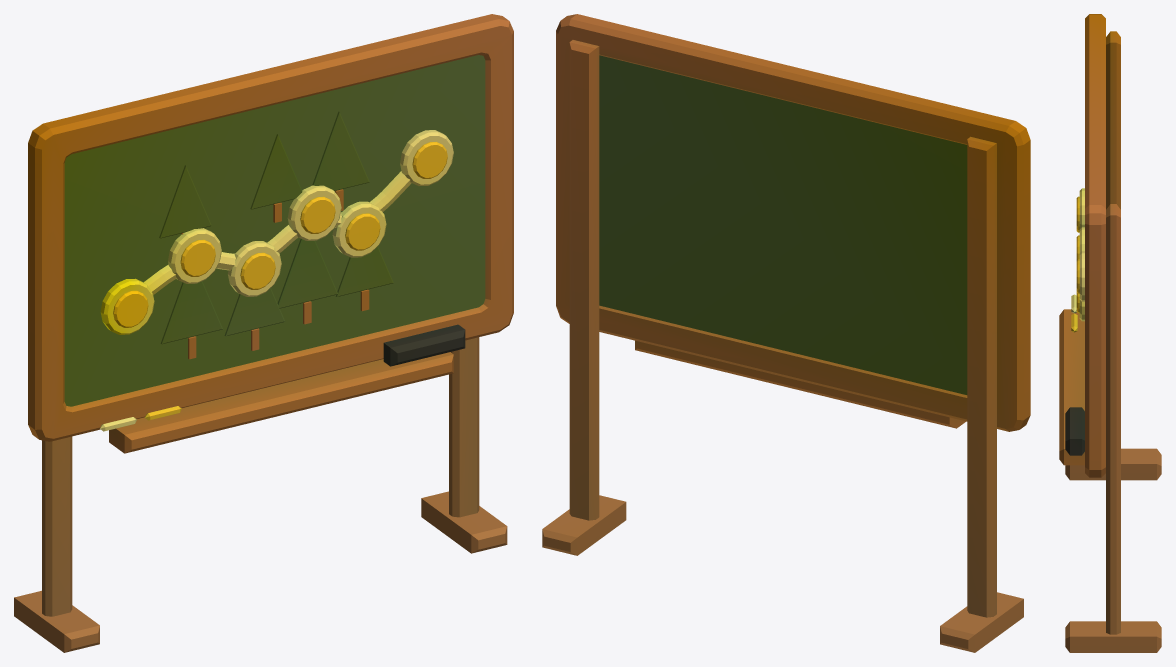
File: Prop_RouteBoard.glb
The picture shows the model from 3 angles, left to right: view 1: azimuth 30°, elevation 25°; view 2: azimuth 150°, elevation 25°; view 3: azimuth 270°, elevation 25°; orthographic projection. The views are drawn at different scales.
Parts seen in each view (by area): view 1: Prop_RouteBoard; view 2: Prop_RouteBoard; view 3: Prop_RouteBoard.
Part boxes in pixels (left/top/right/bottom): Prop_RouteBoard: left=14, top=14, right=513, bottom=652; Prop_RouteBoard: left=542, top=14, right=1030, bottom=652; Prop_RouteBoard: left=1059, top=14, right=1161, bottom=652.
Bounding box in the file's own units: 1.6 × 1.65 × 0.34.
